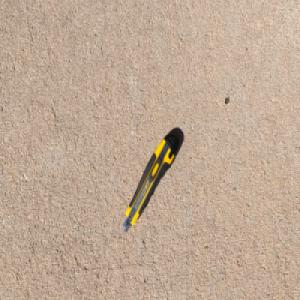Cutter: (122, 130, 180, 234)
